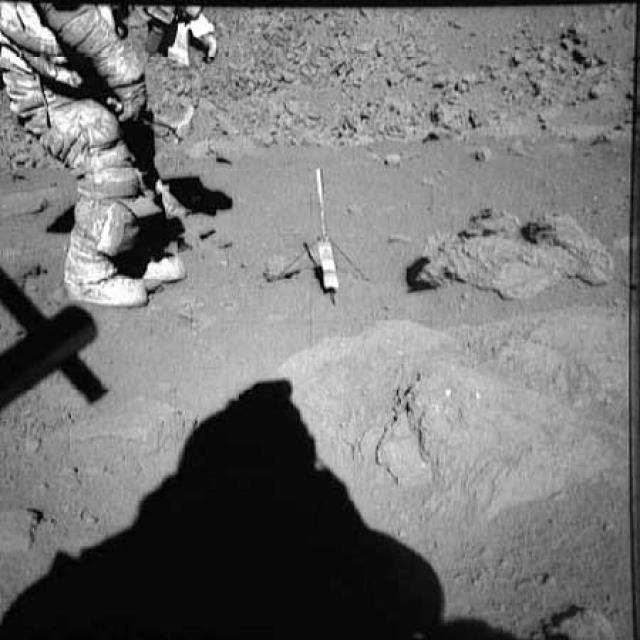artifact: (0, 2, 235, 308), (277, 158, 369, 301)
rock: (392, 350, 612, 510), (413, 190, 607, 300), (545, 590, 624, 639), (0, 485, 44, 559), (463, 137, 495, 168)
